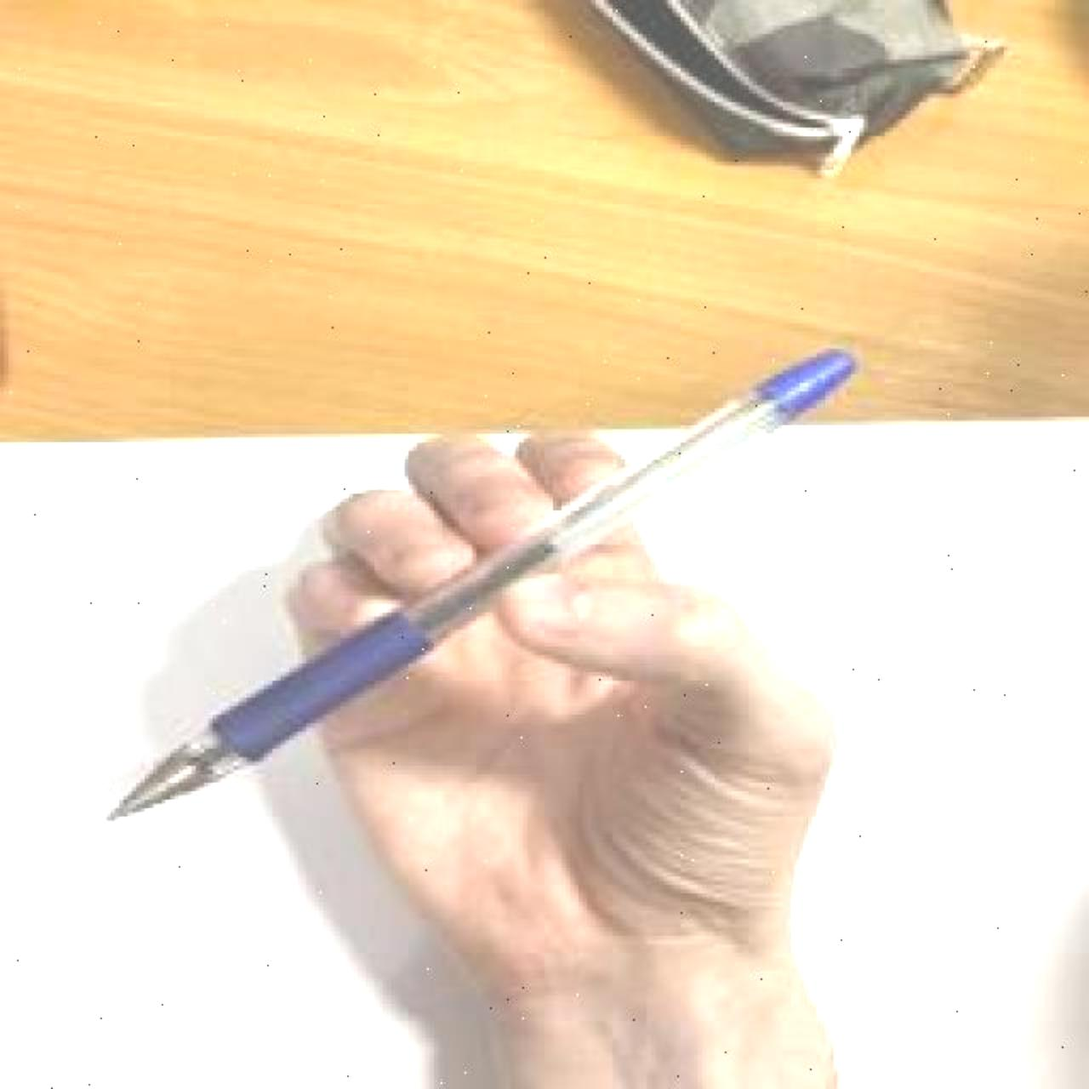pen: (102, 340, 859, 825)
